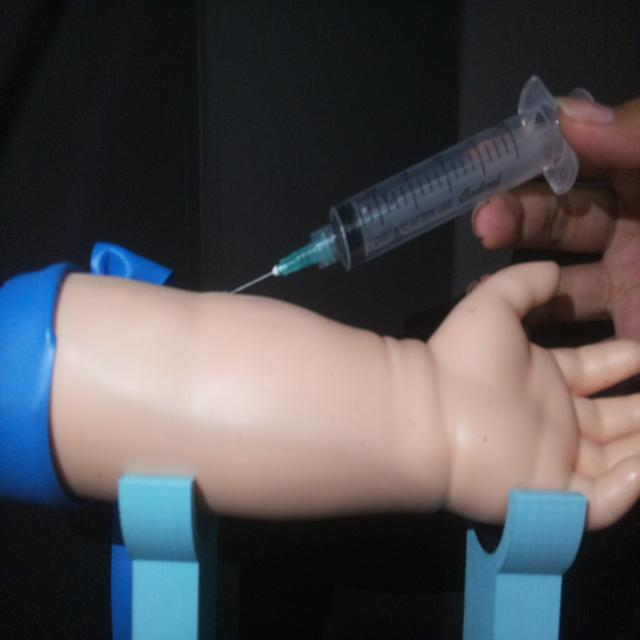24deg: (222, 70, 590, 299)
